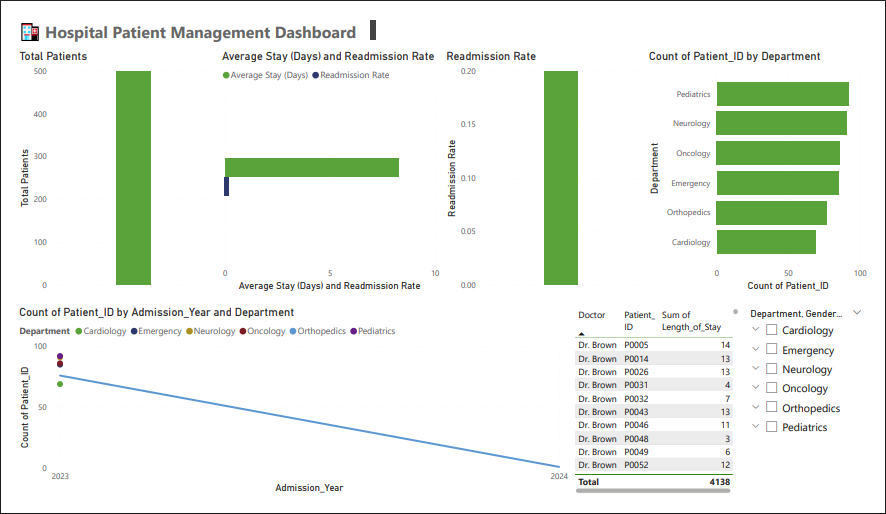

What the dashboard file says about the page in this screenshot:
{"tool":"powerbi","page":{"name":"Page 1","canvas":[1280,720],"ordinal":0},"visuals":[{"type":"clusteredColumnChart","fields":{"Y":["Sheet1.Total Patients"]},"box":[0,48,304,368],"z":0},{"type":"clusteredBarChart","fields":{"Y":["Sheet1.Average Stay (Days)","Sheet1.Readmission Rate"]},"box":[304,48,336,368],"z":1000},{"type":"clusteredColumnChart","fields":{"Y":["Sheet1.Readmission Rate"]},"box":[640,48,304,368],"z":2000},{"type":"clusteredBarChart","fields":{"Category":["Sheet1.Department"],"Y":["Sheet1.Patient_ID"]},"box":[944,48,336,368],"z":4000},{"type":"tableEx","fields":{"Values":["Sheet1.Doctor","Sheet1.Patient_ID","Sheet1.Length_of_Stay"]},"box":[832,432,256,288],"z":5000},{"type":"textbox","box":[0,0,544,48],"z":6000},{"type":"slicer","fields":{"Values":["Sheet1.Department","Sheet1.Gender","Sheet1.Doctor","Sheet1.Admission_Date"]},"box":[1088,432,192,288],"z":6001},{"type":"lineChart","fields":{"Y":["Sheet1.Patient_ID"],"Series":["Sheet1.Department"],"Category":["Sheet1.Admission_Year"]},"box":[0,432,832,288],"z":6002}]}

Visuals, with their boxes on the page's 1280x720 design canvas (x1, y1, x2, y2). These are canvas units, not pixel positions in the 886x514 screenshot, which may show the page scaled, cropped or inside an application window:
clusteredColumnChart - Sheet1.Total Patients: [0, 48, 304, 416]
clusteredBarChart - Sheet1.Average Stay (Days) x Sheet1.Readmission Rate: [304, 48, 640, 416]
clusteredColumnChart - Sheet1.Readmission Rate: [640, 48, 944, 416]
clusteredBarChart - Sheet1.Department x Sheet1.Patient_ID: [944, 48, 1280, 416]
tableEx - Sheet1.Doctor x Sheet1.Patient_ID: [832, 432, 1088, 720]
textbox: [0, 0, 544, 48]
slicer - Sheet1.Department x Sheet1.Gender: [1088, 432, 1280, 720]
lineChart - Sheet1.Patient_ID x Sheet1.Department: [0, 432, 832, 720]
